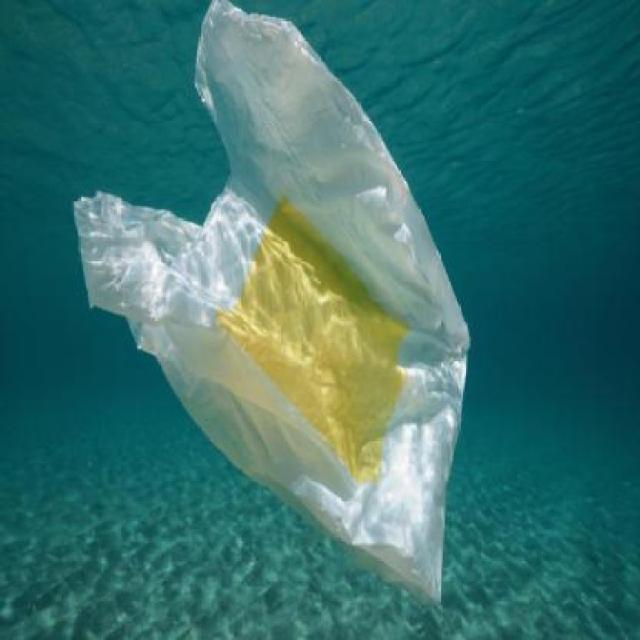plastic bag: (72, 0, 472, 602)
